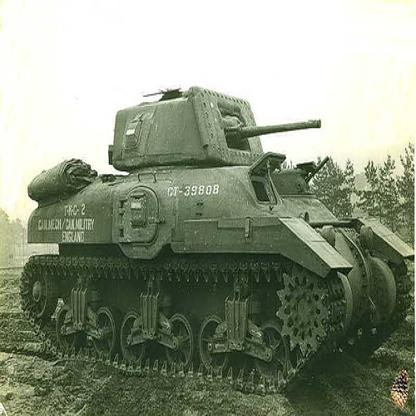Tank: (16, 81, 416, 393)
